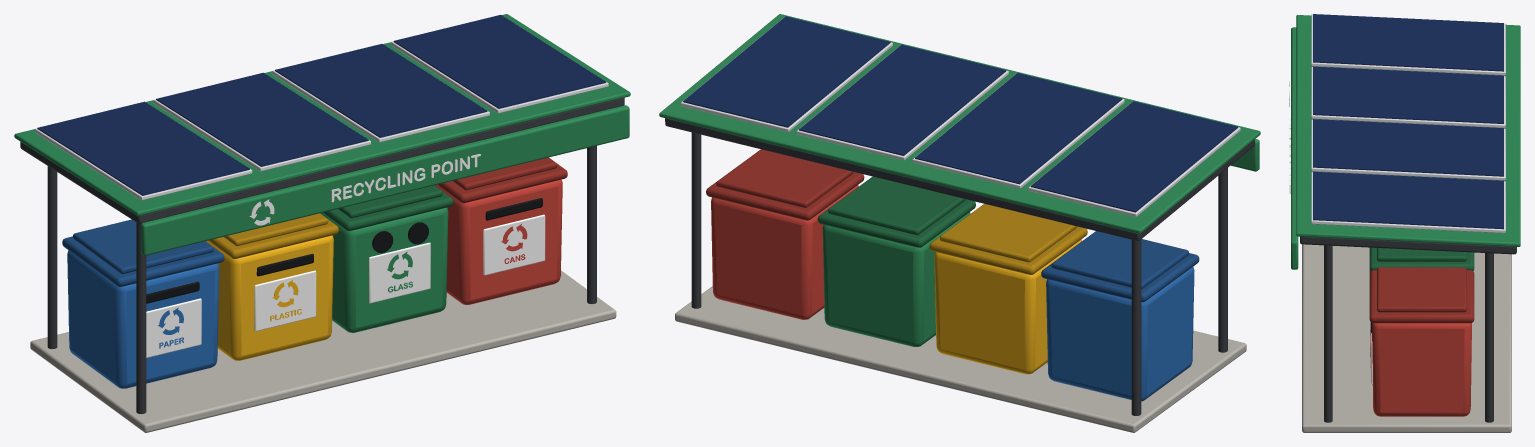
The model's file is recycling_point.fbx.
3 renders of one model, left to right at view 1: azimuth 30°, elevation 25°; view 2: azimuth 150°, elevation 25°; view 3: azimuth 270°, elevation 25°, orthographic. The views are drawn at different scales.
Visible parts, largest first — view 1: recycling_point; view 2: recycling_point; view 3: recycling_point.
Part boxes in pixels (bbox=[...]): recycling_point: bbox=[14, 14, 630, 432]; recycling_point: bbox=[659, 14, 1260, 432]; recycling_point: bbox=[1289, 14, 1520, 432].
Bounding box in the file's own units: 6.9 × 3.13 × 3.09.
